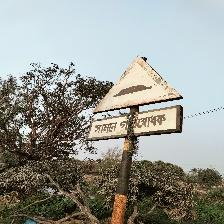Speed-breaker: (89, 55, 185, 140)
